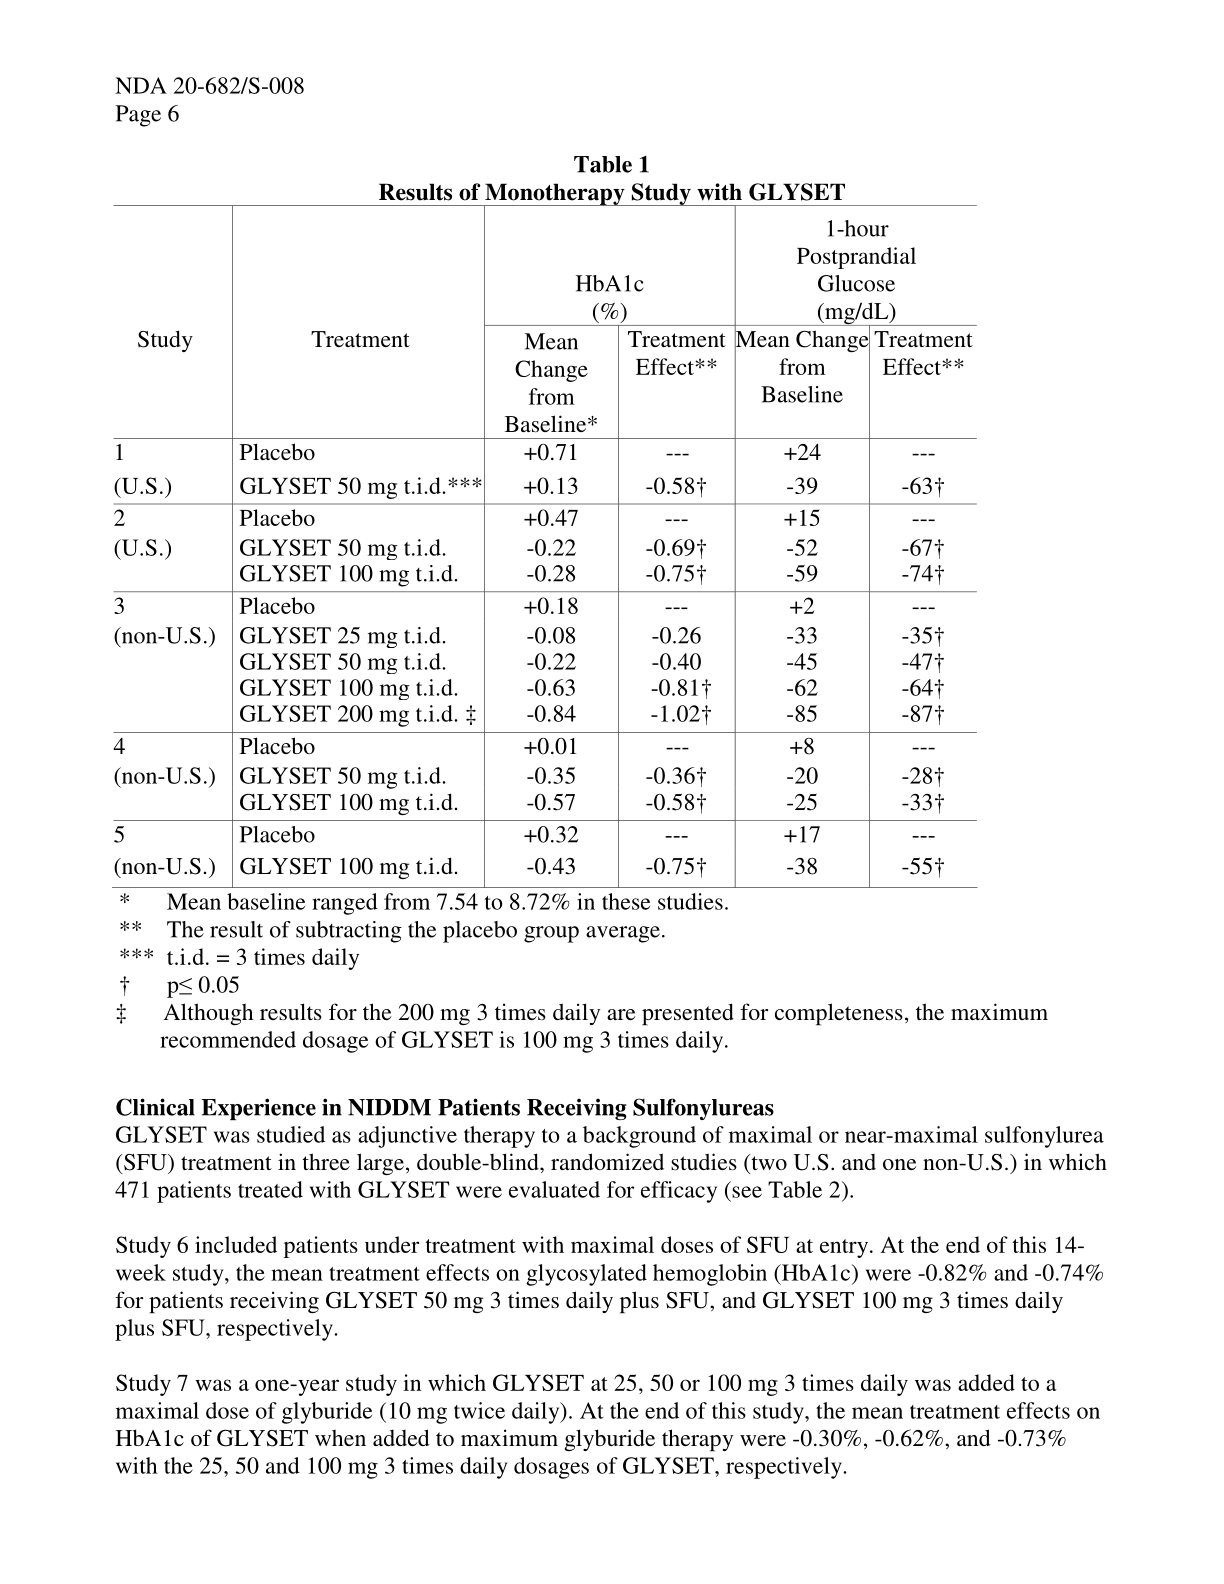partial_lined_merged_cells: (109, 201, 984, 892)
